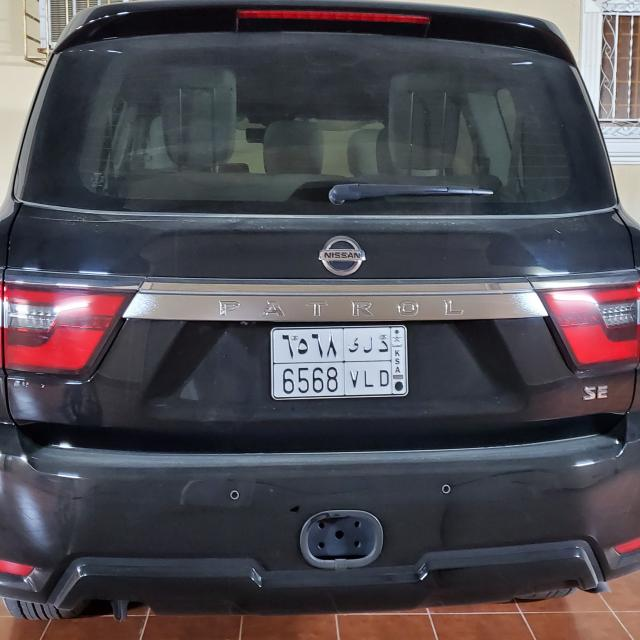license_plate: (269, 323, 410, 402)
